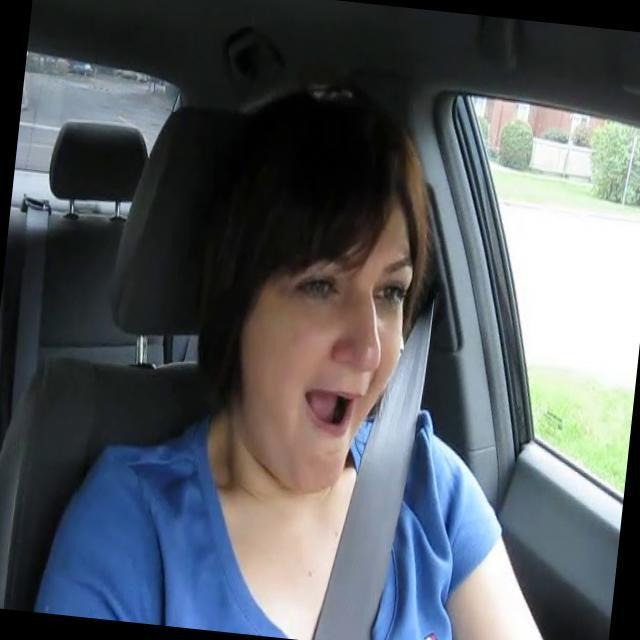open-mouth: (302, 387, 360, 438)
